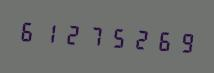five: (105, 19, 126, 54)
nine: (171, 24, 192, 58)
one: (39, 15, 60, 49)
seven: (83, 18, 104, 52)
six: (17, 13, 38, 48), (149, 23, 170, 57)
two: (61, 16, 82, 51), (127, 21, 148, 55)
